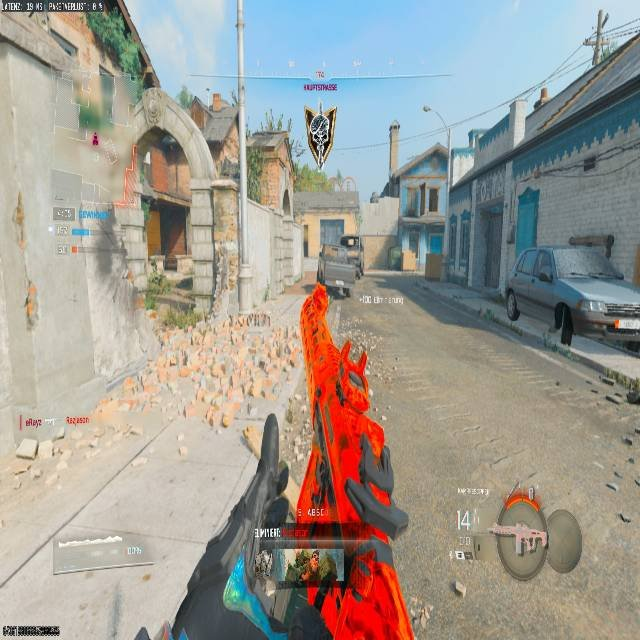player: (353, 260, 363, 280)
